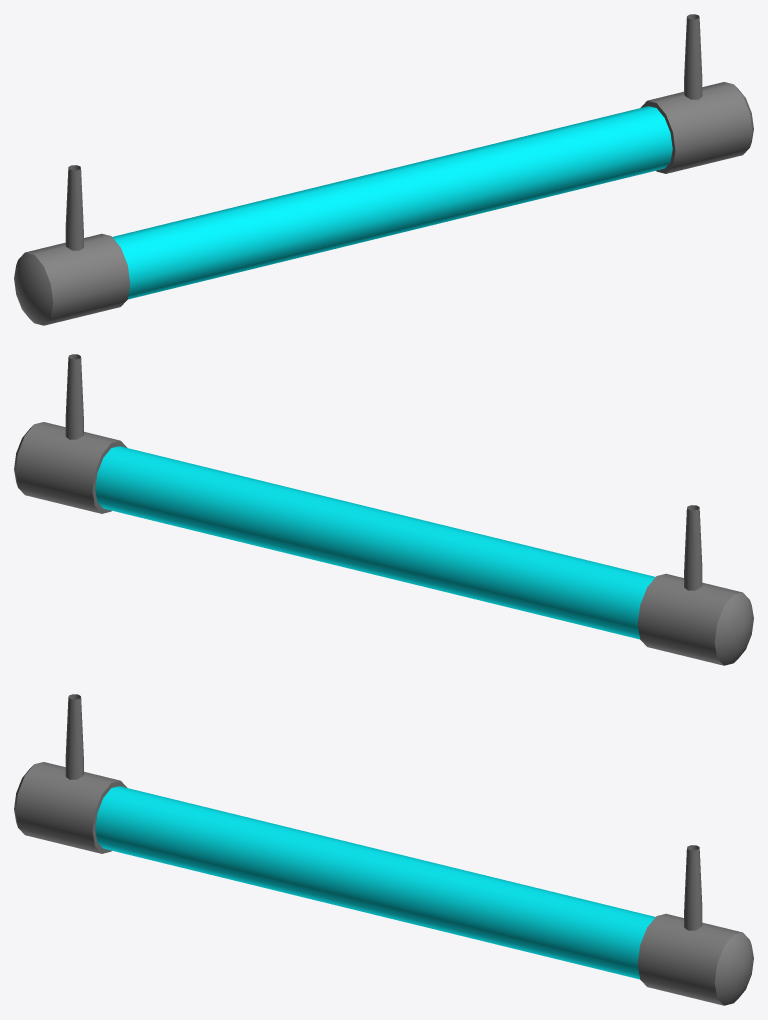
File: Lght_4.fbx
3 renders of one model, top to bottom at view 1: azimuth 30°, elevation 25°; view 2: azimuth 150°, elevation 25°; view 3: azimuth 330°, elevation 25°, orthographic.
Visible parts, largest first — view 1: Lght_4; view 2: Lght_4; view 3: Lght_4.
Part boxes in pixels (<box>): Lght_4: <box>14,14,753,325</box>; Lght_4: <box>14,354,753,665</box>; Lght_4: <box>14,694,753,1005</box>.
Size of the model in its own units: 1.55 by 0.1407 by 0.299.
